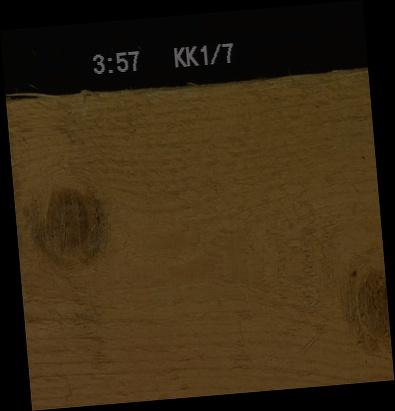sound_knot: (32, 183, 112, 268), (341, 262, 388, 358)
